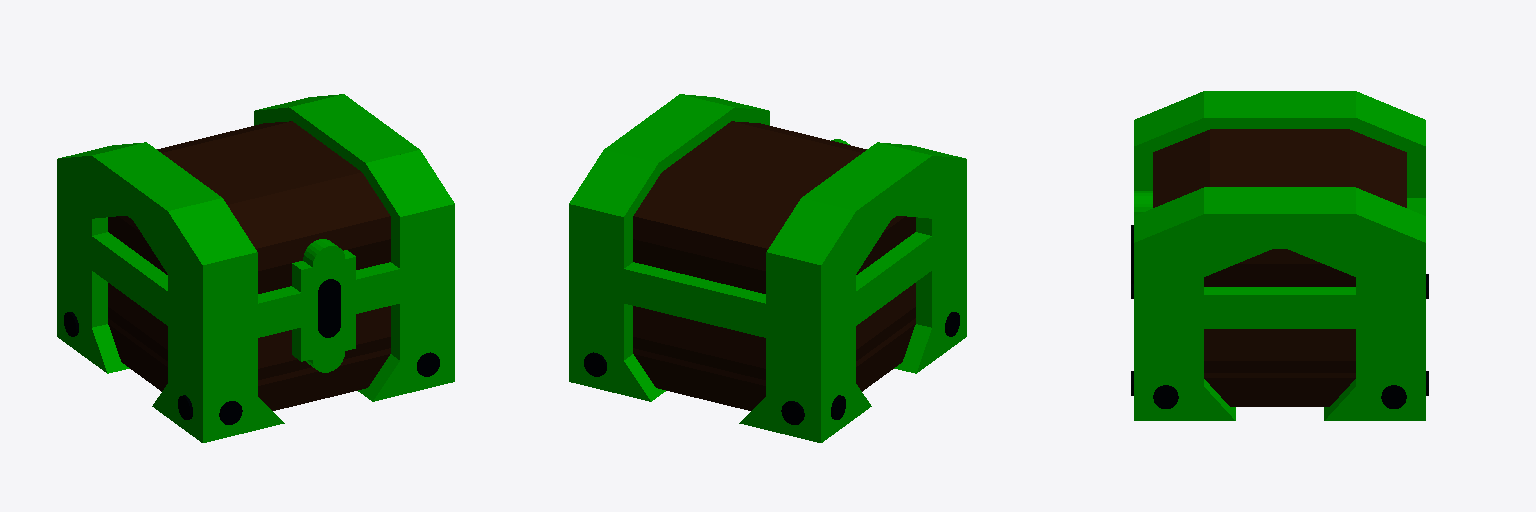
The model's file is chest1.obj.
3 views of the same model, side by side, from view 1: azimuth 30°, elevation 25°; view 2: azimuth 150°, elevation 25°; view 3: azimuth 270°, elevation 25° (orthographic).
Parts seen in each view (by area): view 1: Part14, Part13, Part8, Part27, Part11, Wedge18, Part10, Part28, Part5, Wedge7, Part18, Wedge8 (+12 smaller); view 2: Part27, Part11, Part8, Part12, Part14, Wedge5, Part10, Part9, Part28, Part5, Part7, Wedge1 (+9 smaller); view 3: Part12, Part13, Part28, Part8, Part27, Part10, Part9, Part5, Wedge18, Wedge5, Part7, Wedge2 (+12 smaller).
Part boxes in pixels (x1,y1,x2,y2): Part14: (168,240,257,442); Part13: (384,204,454,394); Part8: (162,121,360,204); Part27: (63,215,399,347); Part11: (57,159,107,361); Wedge18: (228,172,389,248); Part10: (92,142,221,244); Part28: (289,94,419,175); Part5: (108,324,389,410); Wedge7: (168,198,256,264); Part18: (292,250,355,361); Wedge8: (365,150,454,216); Part27: (569,232,937,350); Part11: (766,240,855,442); Part8: (663,121,861,204); Part12: (569,204,639,394); Part14: (916,159,966,361); Wedge5: (634,172,795,248); Part10: (802,142,931,244); Part9: (633,283,915,368); Part28: (604,94,734,175); Part5: (634,324,915,410); Part7: (633,216,915,293); Wedge1: (767,198,855,264); Part12: (1356,243,1425,420); Part13: (1134,243,1203,420); Part28: (1204,187,1355,248); Part8: (1210,129,1349,186); Part27: (1134,198,1425,328); Part10: (1204,91,1355,131); Part9: (1204,329,1355,360); Part5: (1204,378,1355,406); Wedge18: (1153,130,1209,207); Wedge5: (1350,130,1406,207); Part7: (1204,264,1355,286); Wedge2: (1356,188,1425,242).
Size of the model in its own units: 4.7 by 3.6 by 4.7.